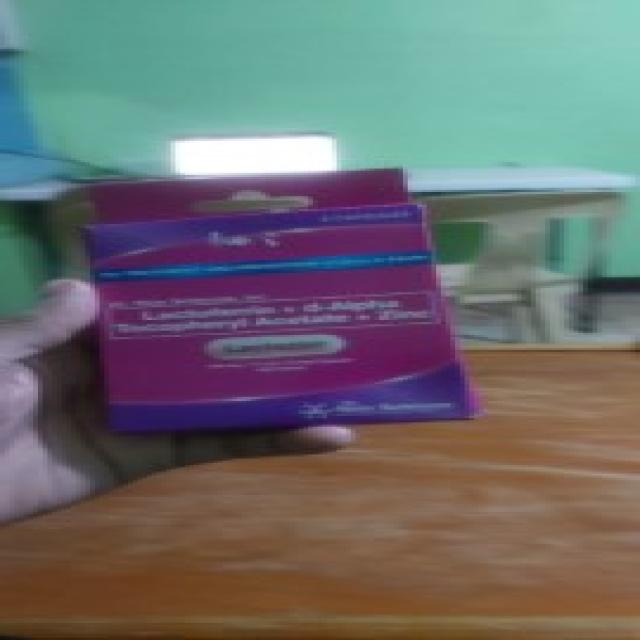Cacat: (100, 170, 417, 421)
